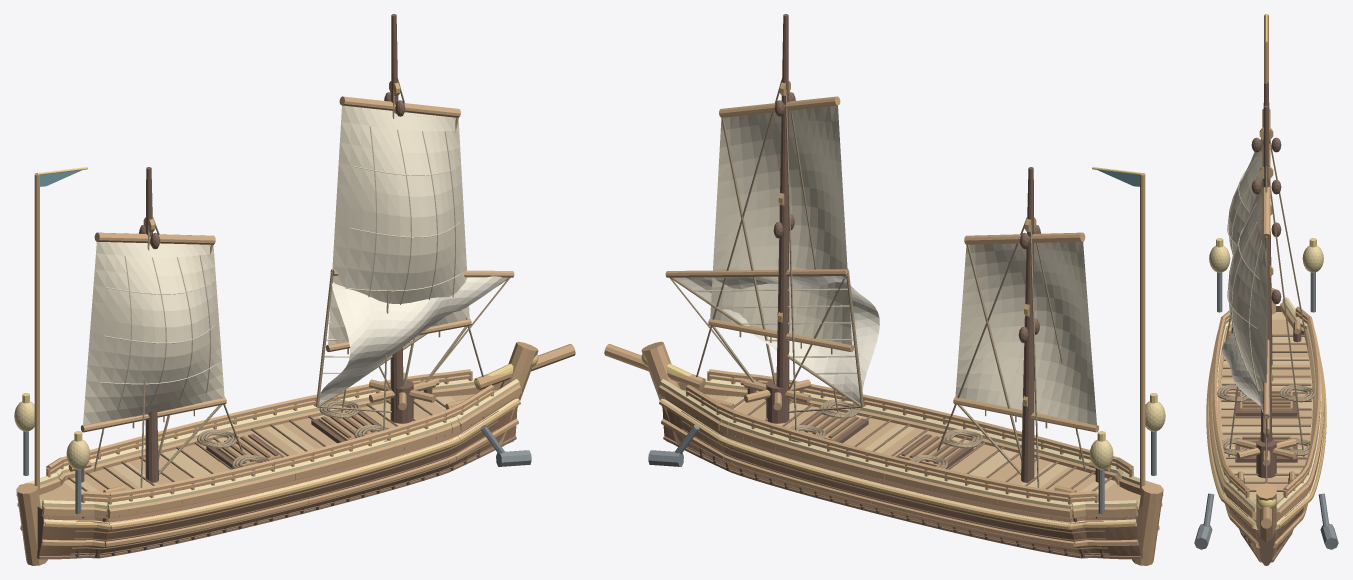
File: chesapeake_schooner-v5.glb
3 renders of one model, left to right at view 1: azimuth 30°, elevation 25°; view 2: azimuth 150°, elevation 25°; view 3: azimuth 270°, elevation 25°, orthographic. The views are drawn at different scales.
Visible parts, largest first — view 1: chesapeake_schooner_sails_sail, chesapeake_schooner_hull_wood, chesapeake_schooner_railings_wood, chesapeake_schooner_sails_sailbright, chesapeake_schooner_hull_pale, chesapeake_schooner_hull_seam, chesapeake_schooner_hull_hull2, chesapeake_schooner_hull_hull, chesapeake_schooner_hull_deck, chesapeake_schooner_rigging_wood, chesapeake_schooner_rigging_sailshade, chesapeake_schooner_masts_darkwood (+12 smaller); view 2: chesapeake_schooner_sails_sail, chesapeake_schooner_hull_wood, chesapeake_schooner_railings_wood, chesapeake_schooner_hull_pale, chesapeake_schooner_masts_darkwood, chesapeake_schooner_hull_seam, chesapeake_schooner_sails_sailbright, chesapeake_schooner_rigging_wood, chesapeake_schooner_hull_hull2, chesapeake_schooner_hull_hull, chesapeake_schooner_hull_deck, chesapeake_schooner_rigging_rope (+13 smaller); view 3: chesapeake_schooner_sails_sail, chesapeake_schooner_hull_wood, chesapeake_schooner_hull_deck, chesapeake_schooner_railings_wood, chesapeake_schooner_hull_seam, chesapeake_schooner_masts_darkwood, chesapeake_schooner_hull_decklight, chesapeake_schooner_hull_pale, chesapeake_schooner_fittings_iron, chesapeake_schooner_fittings_darkwood, chesapeake_schooner_fittings_wood, chesapeake_schooner_masts_rope (+15 smaller).
Part boxes in pixels (x1,y1,x2,y2): chesapeake_schooner_sails_sail: (83, 105, 469, 425); chesapeake_schooner_hull_wood: (16, 341, 575, 565); chesapeake_schooner_railings_wood: (46, 369, 493, 512); chesapeake_schooner_sails_sailbright: (319, 276, 506, 403); chesapeake_schooner_hull_pale: (18, 378, 519, 526); chesapeake_schooner_hull_seam: (24, 398, 516, 559); chesapeake_schooner_hull_hull2: (39, 398, 516, 556); chesapeake_schooner_hull_hull: (37, 406, 517, 558); chesapeake_schooner_hull_deck: (39, 394, 474, 501); chesapeake_schooner_rigging_wood: (81, 96, 514, 432); chesapeake_schooner_rigging_sailshade: (99, 126, 460, 410); chesapeake_schooner_masts_darkwood: (139, 14, 405, 482); chesapeake_schooner_sails_sail: (710, 105, 1096, 425); chesapeake_schooner_hull_wood: (604, 341, 1163, 565); chesapeake_schooner_railings_wood: (686, 369, 1133, 512); chesapeake_schooner_hull_pale: (660, 378, 1161, 529); chesapeake_schooner_masts_darkwood: (773, 14, 1040, 482); chesapeake_schooner_hull_seam: (663, 398, 1155, 559); chesapeake_schooner_sails_sailbright: (675, 276, 879, 403); chesapeake_schooner_rigging_wood: (665, 96, 1098, 432); chesapeake_schooner_hull_hull2: (663, 398, 1140, 556); chesapeake_schooner_hull_hull: (662, 406, 1142, 558); chesapeake_schooner_hull_deck: (705, 394, 1140, 501); chesapeake_schooner_rigging_rope: (669, 117, 1077, 474); chesapeake_schooner_sails_sail: (1228, 138, 1266, 421); chesapeake_schooner_hull_wood: (1209, 288, 1323, 554); chesapeake_schooner_hull_deck: (1220, 319, 1312, 502); chesapeake_schooner_railings_wood: (1212, 306, 1320, 498); chesapeake_schooner_hull_seam: (1221, 334, 1311, 562); chesapeake_schooner_masts_darkwood: (1251, 82, 1281, 442); chesapeake_schooner_hull_decklight: (1220, 312, 1312, 499); chesapeake_schooner_hull_pale: (1209, 297, 1323, 529); chesapeake_schooner_fittings_iron: (1194, 272, 1338, 549); chesapeake_schooner_fittings_darkwood: (1231, 327, 1301, 483); chesapeake_schooner_fittings_wood: (1232, 320, 1300, 482); chesapeake_schooner_masts_rope: (1225, 140, 1308, 456).
Size of the model in its own units: 46.63 by 37.13 by 11.72.
